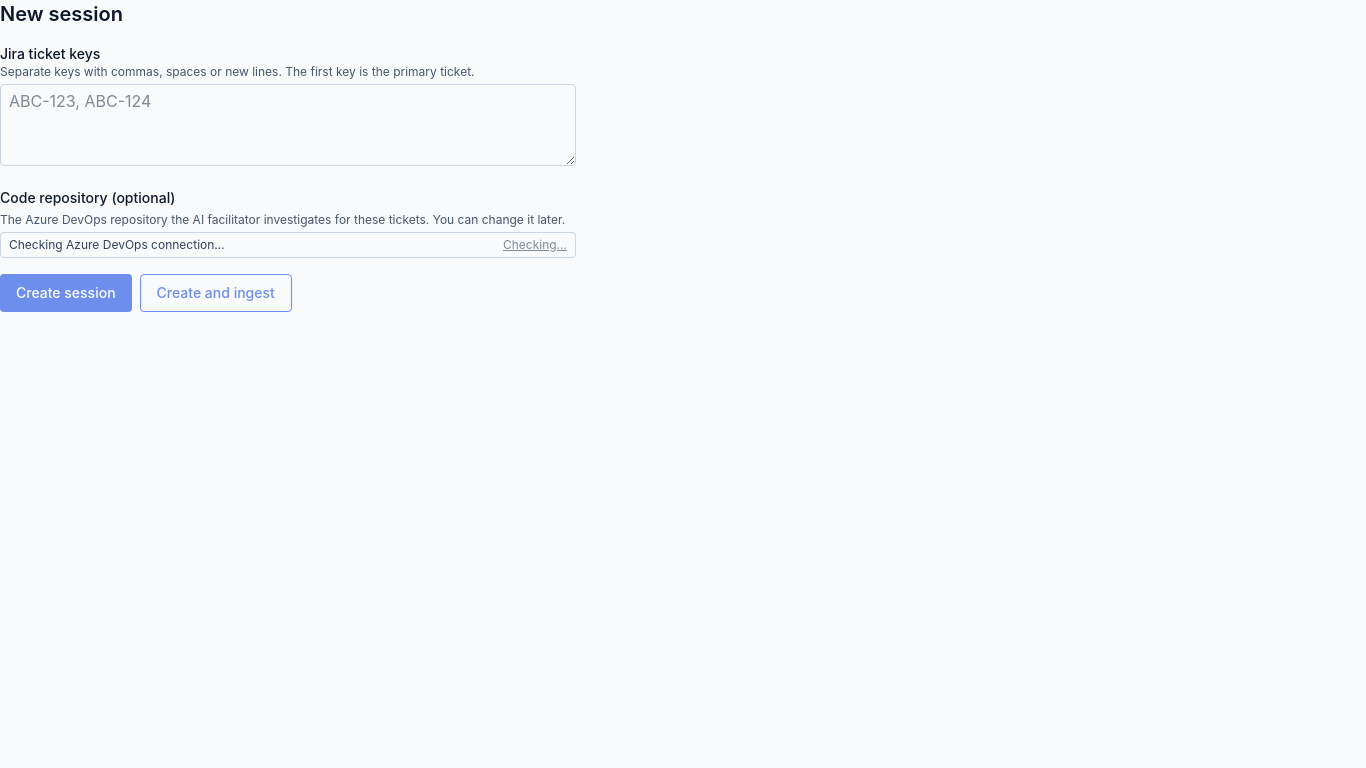
it: new session page › shows the duplicate confirmation with a link to the existing session on 409
The width and height of the screenshot is (1366, 768).
Type "ABC-1" into the text box labelled "Jira ticket keys" at (288, 125), box [0,84,576,166]
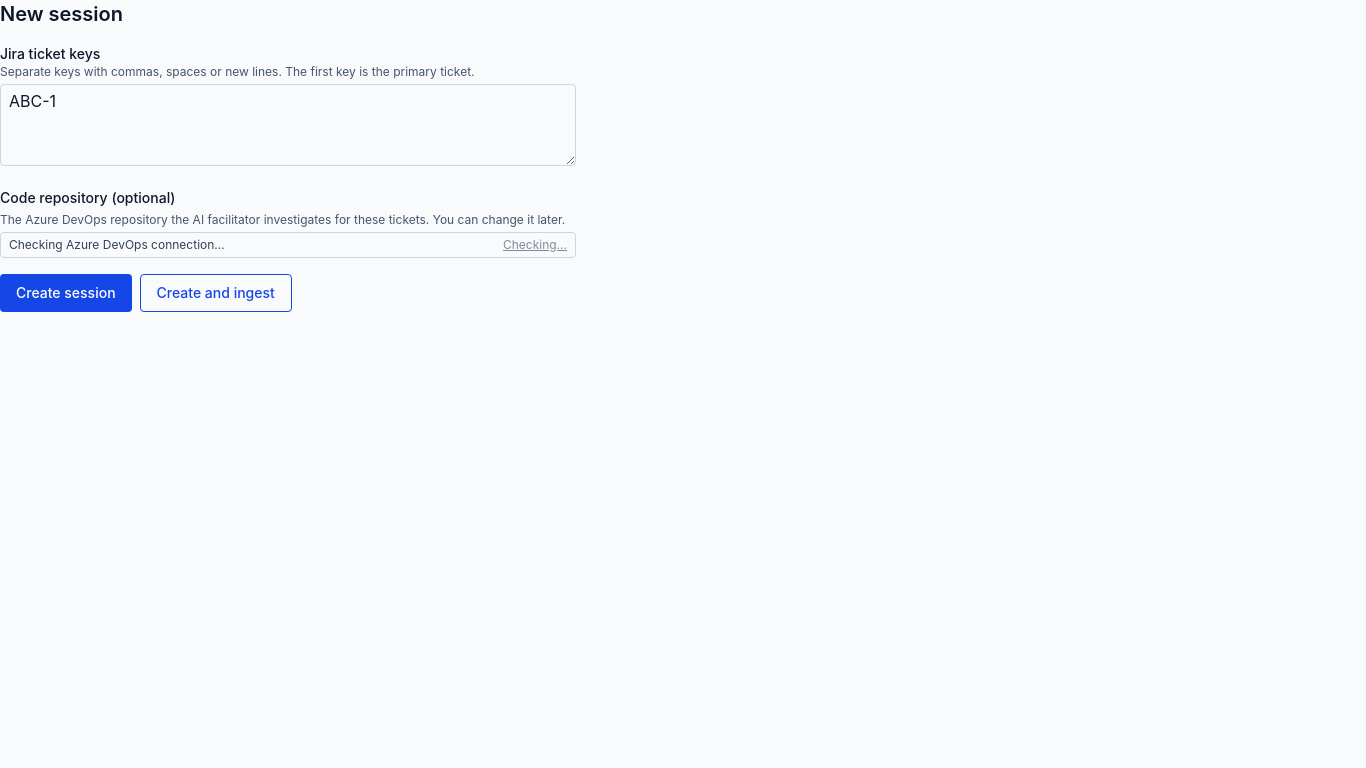
Click the button "Create session" at (66, 293), box [0,274,132,312]
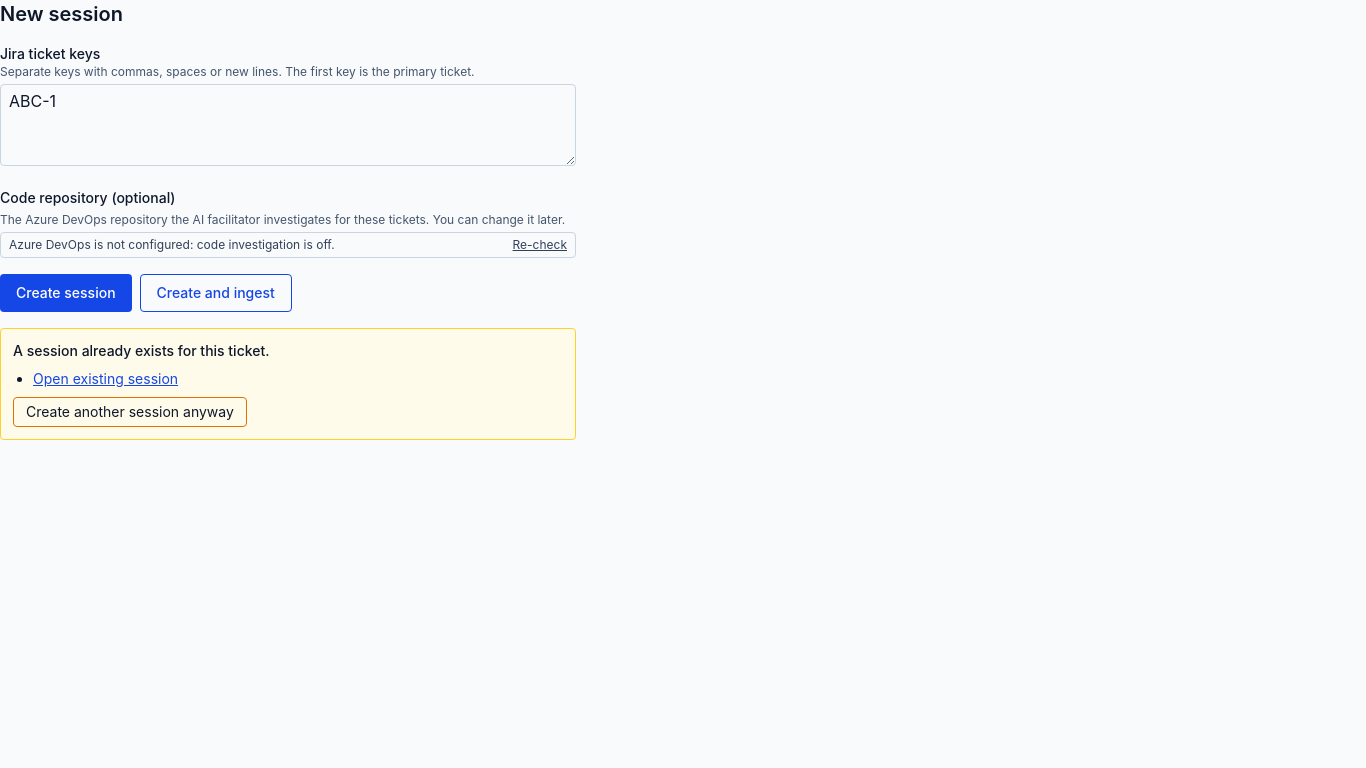
expect the button "Create another session anyway" is shown: met, box [13,397,247,427]
